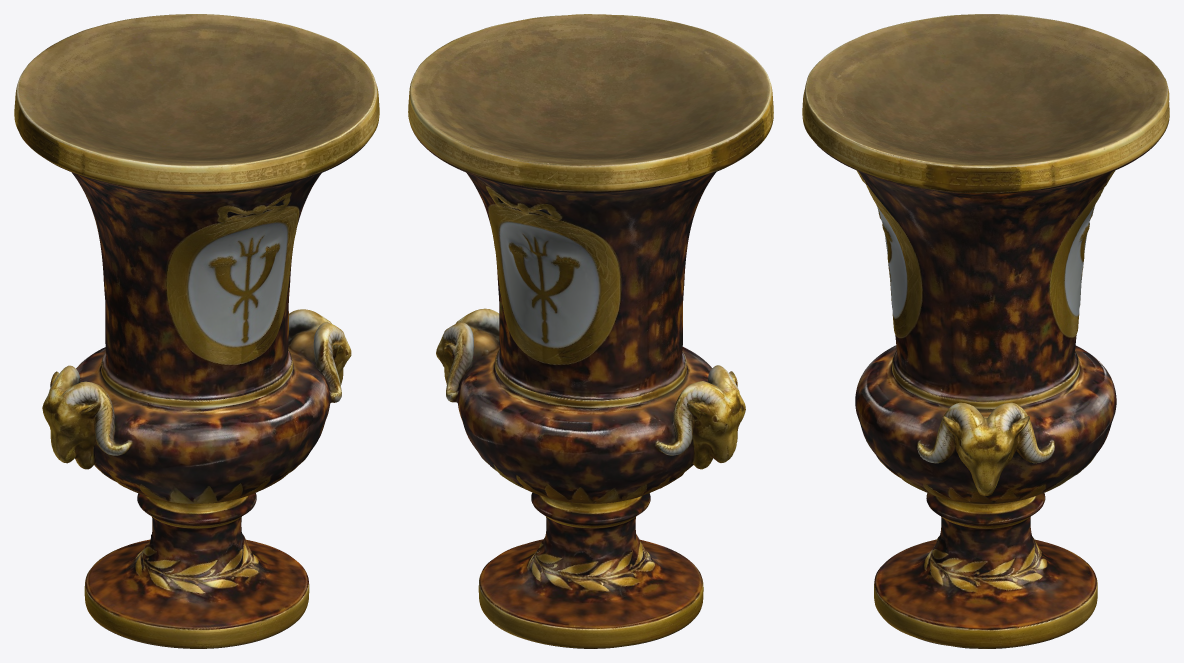
The model's file is ornate-vase.glb.
3 views of the same model, side by side, from view 1: azimuth 30°, elevation 25°; view 2: azimuth 150°, elevation 25°; view 3: azimuth 270°, elevation 25° (orthographic).
Visible parts, largest first — view 1: tripo_node_c5559bd0-aced-4480-84f1-a39aada2808c; view 2: tripo_node_c5559bd0-aced-4480-84f1-a39aada2808c; view 3: tripo_node_c5559bd0-aced-4480-84f1-a39aada2808c.
Part boxes in pixels (x1,y1,x2,y2): tripo_node_c5559bd0-aced-4480-84f1-a39aada2808c: (14,14,379,648); tripo_node_c5559bd0-aced-4480-84f1-a39aada2808c: (408,14,773,648); tripo_node_c5559bd0-aced-4480-84f1-a39aada2808c: (802,14,1169,648).
Size of the model in its own units: 0.6329 by 0.9791 by 0.6338.
Materials: 1 (1 with a texture image).
